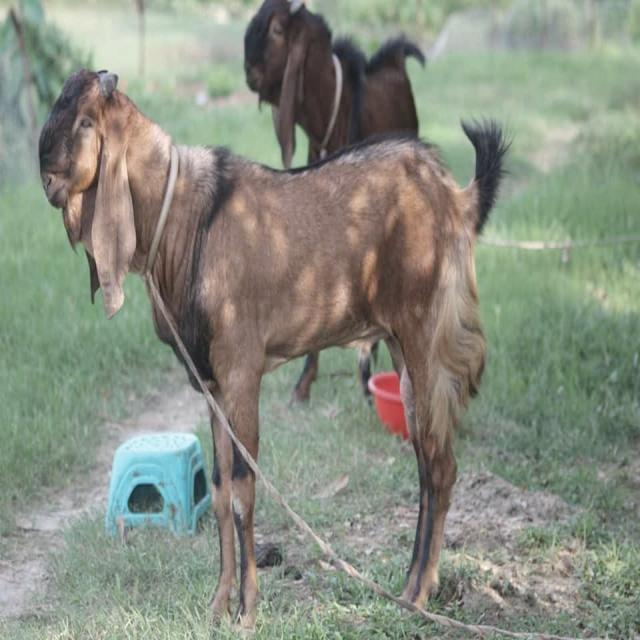Goat: (37, 64, 513, 637), (243, 0, 425, 408)
